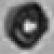correct: (4, 2, 54, 46)
